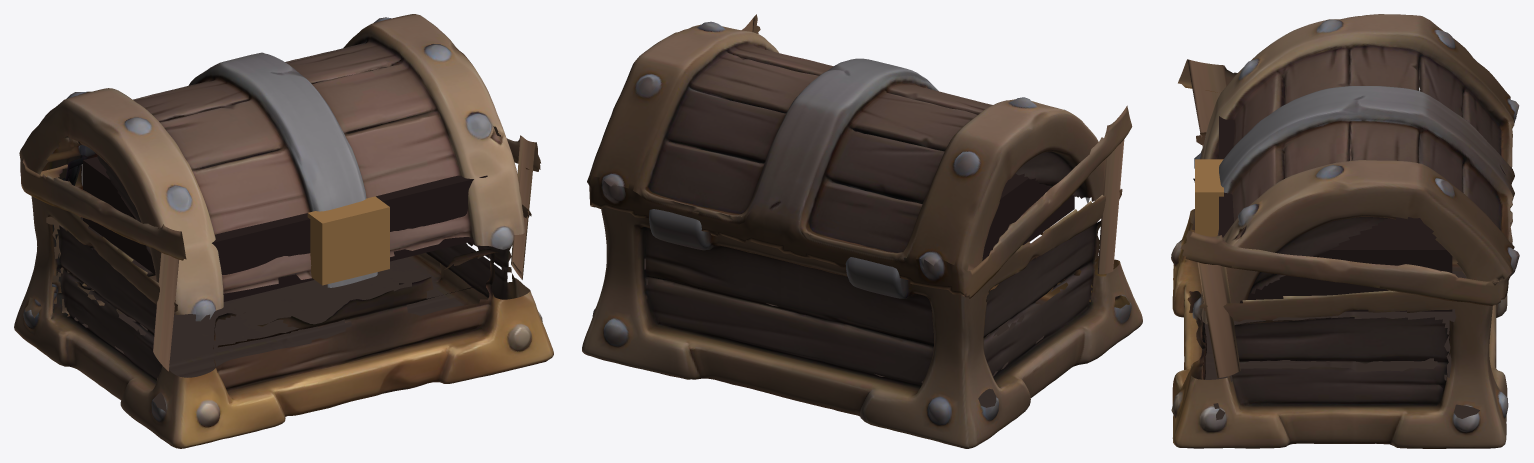
Rendered from Chest_Disguise_Tripo.glb.
The picture shows the model from 3 angles, left to right: view 1: azimuth 30°, elevation 25°; view 2: azimuth 150°, elevation 25°; view 3: azimuth 270°, elevation 25°; orthographic projection. The views are drawn at different scales.
Parts seen in each view (by area): view 1: tripo_node_e93a9e0a-f058-4d5d-8bc0-85281080ae3f.001; view 2: tripo_node_e93a9e0a-f058-4d5d-8bc0-85281080ae3f.001; view 3: tripo_node_e93a9e0a-f058-4d5d-8bc0-85281080ae3f.001.
Boxes of the visible parts, <box> form: tripo_node_e93a9e0a-f058-4d5d-8bc0-85281080ae3f.001: <box>14,14,553,448</box>; tripo_node_e93a9e0a-f058-4d5d-8bc0-85281080ae3f.001: <box>582,14,1142,448</box>; tripo_node_e93a9e0a-f058-4d5d-8bc0-85281080ae3f.001: <box>1171,14,1519,448</box>.
Size of the model in its own units: 0.9166 by 0.6019 by 0.7178.
Materials: 1 (1 with a texture image).
